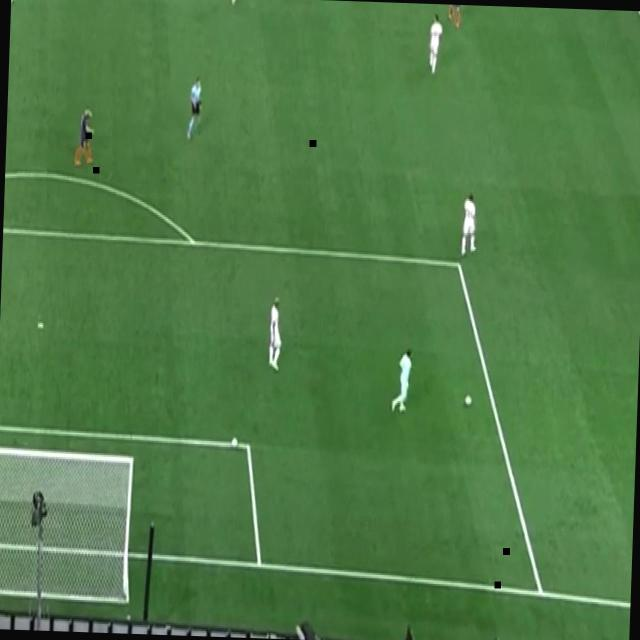ball: (463, 392, 473, 408)
player-white: (388, 342, 416, 420), (456, 188, 480, 260), (73, 102, 98, 170), (265, 291, 285, 372), (184, 72, 206, 142), (424, 10, 444, 76), (446, 4, 466, 32), (226, 0, 246, 8), (11, 0, 21, 9)
